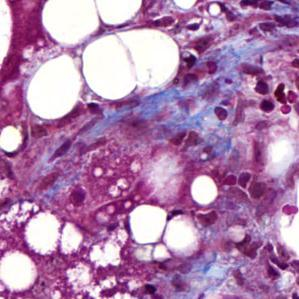steatosis: (25, 55, 86, 120), (188, 173, 225, 206)
